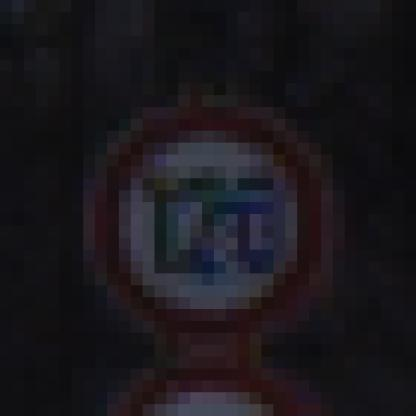Speed Limit 120: (96, 105, 335, 338)
